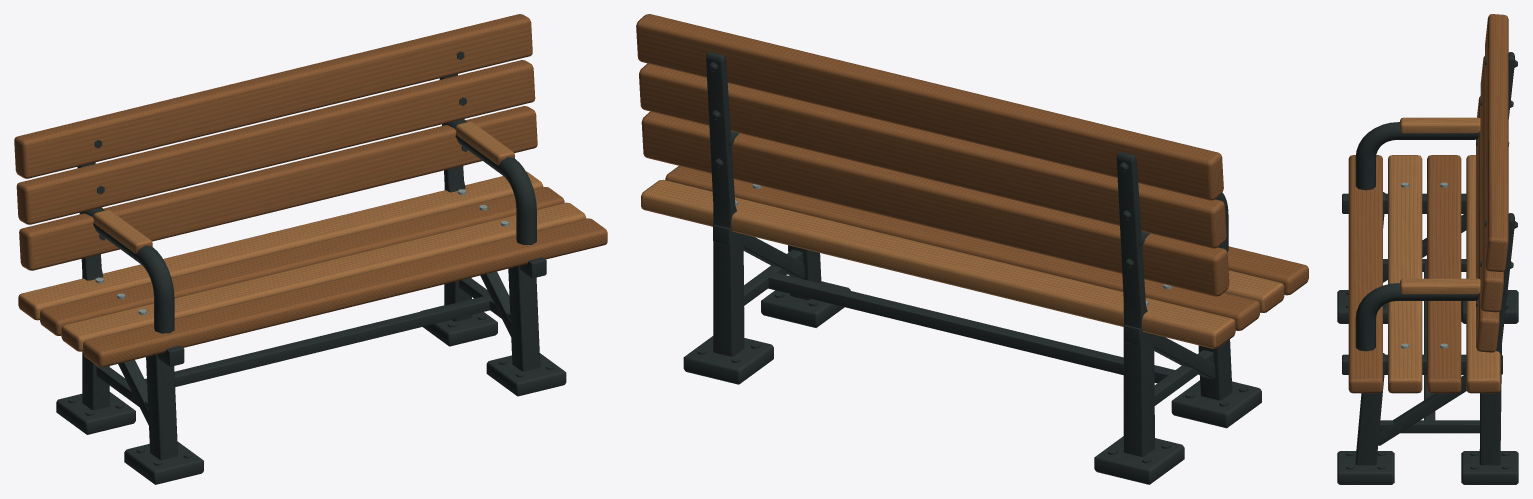
File: park-bench.glb
3 views of the same model, side by side, from view 1: azimuth 30°, elevation 25°; view 2: azimuth 150°, elevation 25°; view 3: azimuth 270°, elevation 25° (orthographic). The views are drawn at different scales.
Parts seen in each view (by area): view 1: Park-benchBody; view 2: Park-benchBody; view 3: Park-benchBody.
Boxes of the visible parts, x1,y1,x2,y2 form: Park-benchBody: (14, 14, 607, 484); Park-benchBody: (636, 14, 1308, 484); Park-benchBody: (1337, 14, 1518, 484).
Bounding box in the file's own units: 1.8 × 0.995 × 0.61.
Materials: 1 (1 with a texture image).
